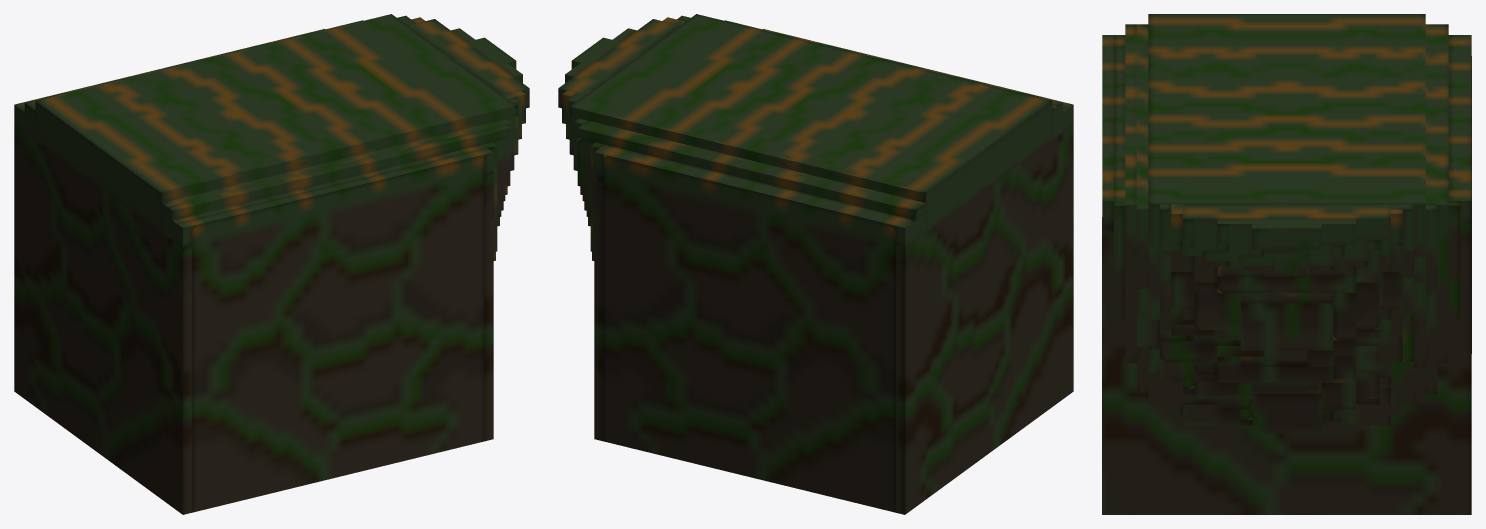
Rendered from Plat L.dae.
3 views of the same model, side by side, from view 1: azimuth 30°, elevation 25°; view 2: azimuth 150°, elevation 25°; view 3: azimuth 270°, elevation 25° (orthographic). The views are drawn at different scales.
Visible parts, largest first — view 1: PL; view 2: PL; view 3: PL.
Part boxes in pixels (x1=…): PL: x1=14, y1=14, x2=529, y2=514; PL: x1=558, y1=14, x2=1073, y2=514; PL: x1=1102, y1=14, x2=1471, y2=514.
Bounding box in the file's own units: 44 × 32 × 32.
Materials: 1 (1 with a texture image).
